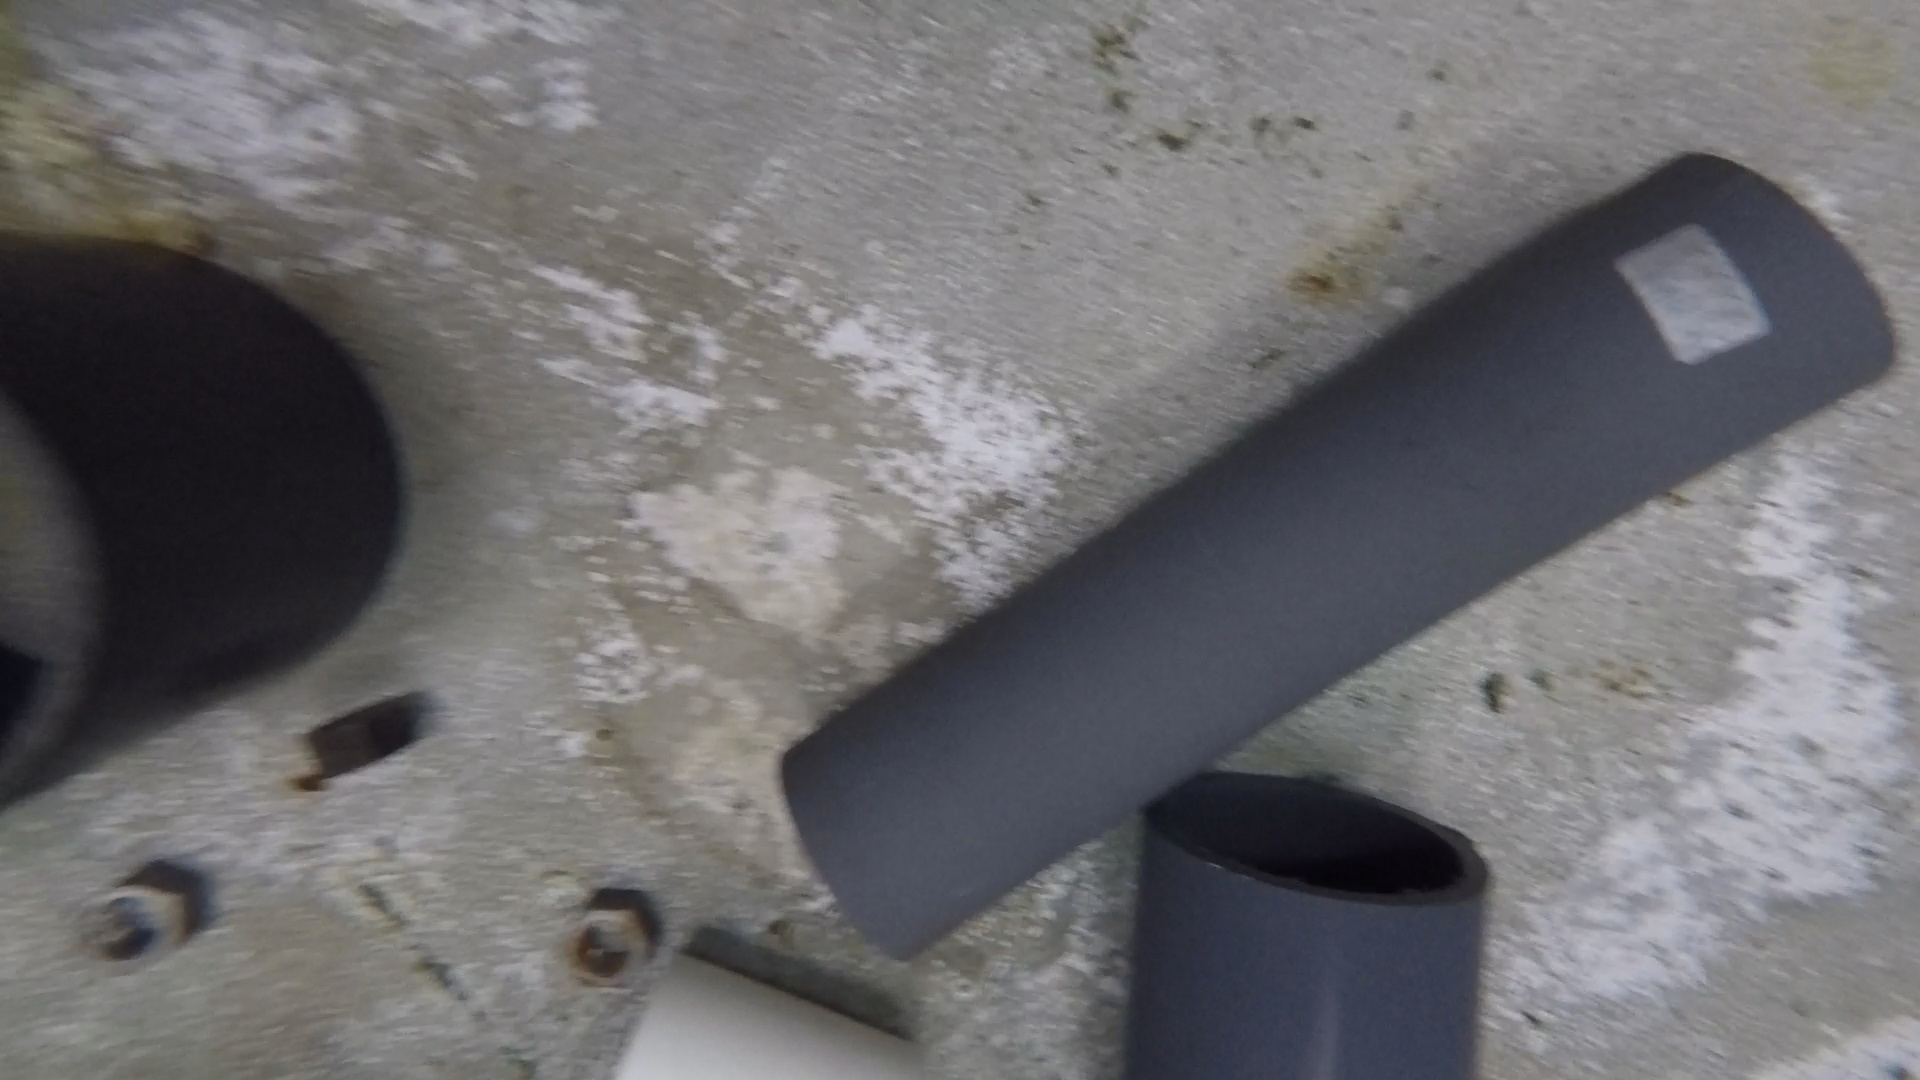nut: (71, 860, 208, 975), (293, 698, 421, 781), (566, 891, 654, 992)
pipe: (783, 153, 1896, 968), (1, 228, 400, 808), (1124, 775, 1487, 1080), (603, 951, 920, 1080)
